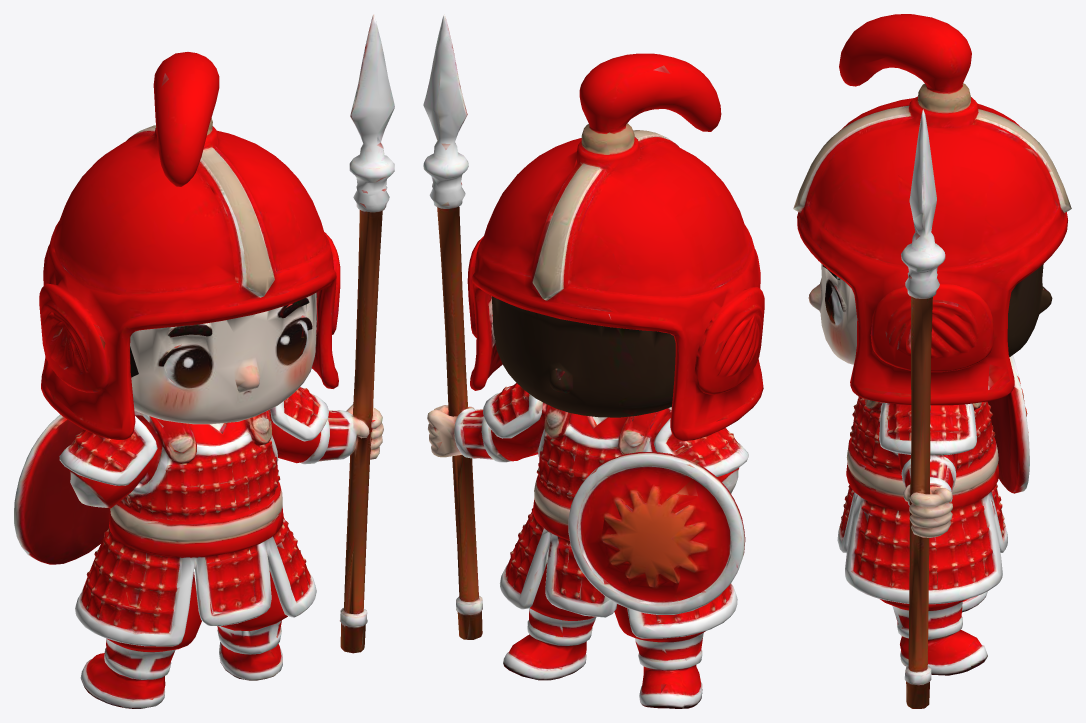
The model's file is spearman.glb.
The picture shows the model from 3 angles, left to right: view 1: azimuth 30°, elevation 25°; view 2: azimuth 150°, elevation 25°; view 3: azimuth 270°, elevation 25°; orthographic projection. The views are drawn at different scales.
Visible parts, largest first — view 1: spearman; view 2: spearman; view 3: spearman.
Boxes of the visible parts, x1,y1,x2,y2 form: spearman: [14, 14, 394, 708]; spearman: [423, 14, 764, 708]; spearman: [793, 14, 1071, 708].
Bounding box in the file's own units: 0.5867 × 1 × 0.4146.
1 material, 1 textured.
